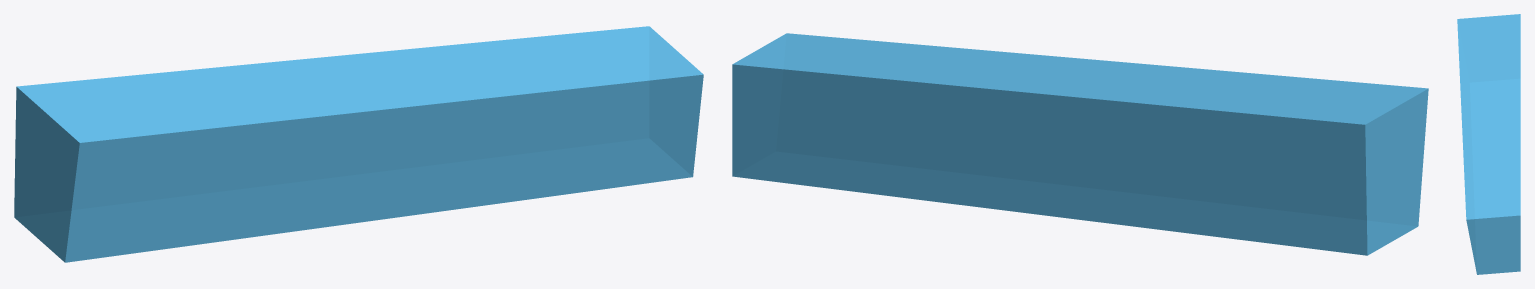
Rendered from Event_421364160_HErechit_10.fbx.
3 renders of one model, left to right at view 1: azimuth 30°, elevation 25°; view 2: azimuth 150°, elevation 25°; view 3: azimuth 270°, elevation 25°, orthographic. The views are drawn at different scales.
Parts seen in each view (by area): view 1: Model; view 2: Model; view 3: Model.
Boxes of the visible parts, <box> form: Model: <box>14,26,703,262</box>; Model: <box>732,33,1428,255</box>; Model: <box>1457,14,1520,274</box>.
Size of the model in its own units: 1.69 by 0.5418 by 0.2924.
